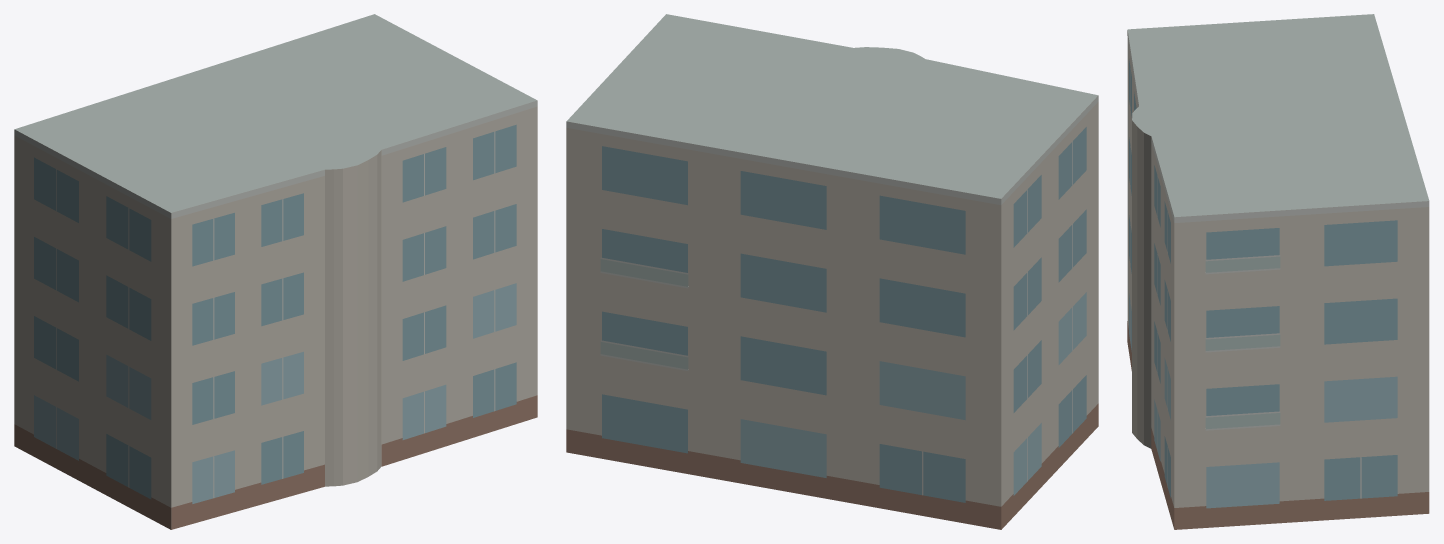
The model's file is survey-upis-32877463.glb.
3 renders of one model, left to right at view 1: azimuth 30°, elevation 25°; view 2: azimuth 150°, elevation 25°; view 3: azimuth 270°, elevation 25°, orthographic. The views are drawn at different scales.
Visible parts, largest first — view 1: survey-upis-32877463.tmp; view 2: survey-upis-32877463.tmp; view 3: survey-upis-32877463.tmp.
Boxes of the visible parts, x1,y1,x2,y2 form: survey-upis-32877463.tmp: [14, 14, 537, 529]; survey-upis-32877463.tmp: [566, 14, 1098, 529]; survey-upis-32877463.tmp: [1127, 14, 1429, 529].
Bounding box in the file's own units: 17.85 × 12.8 × 11.21.
